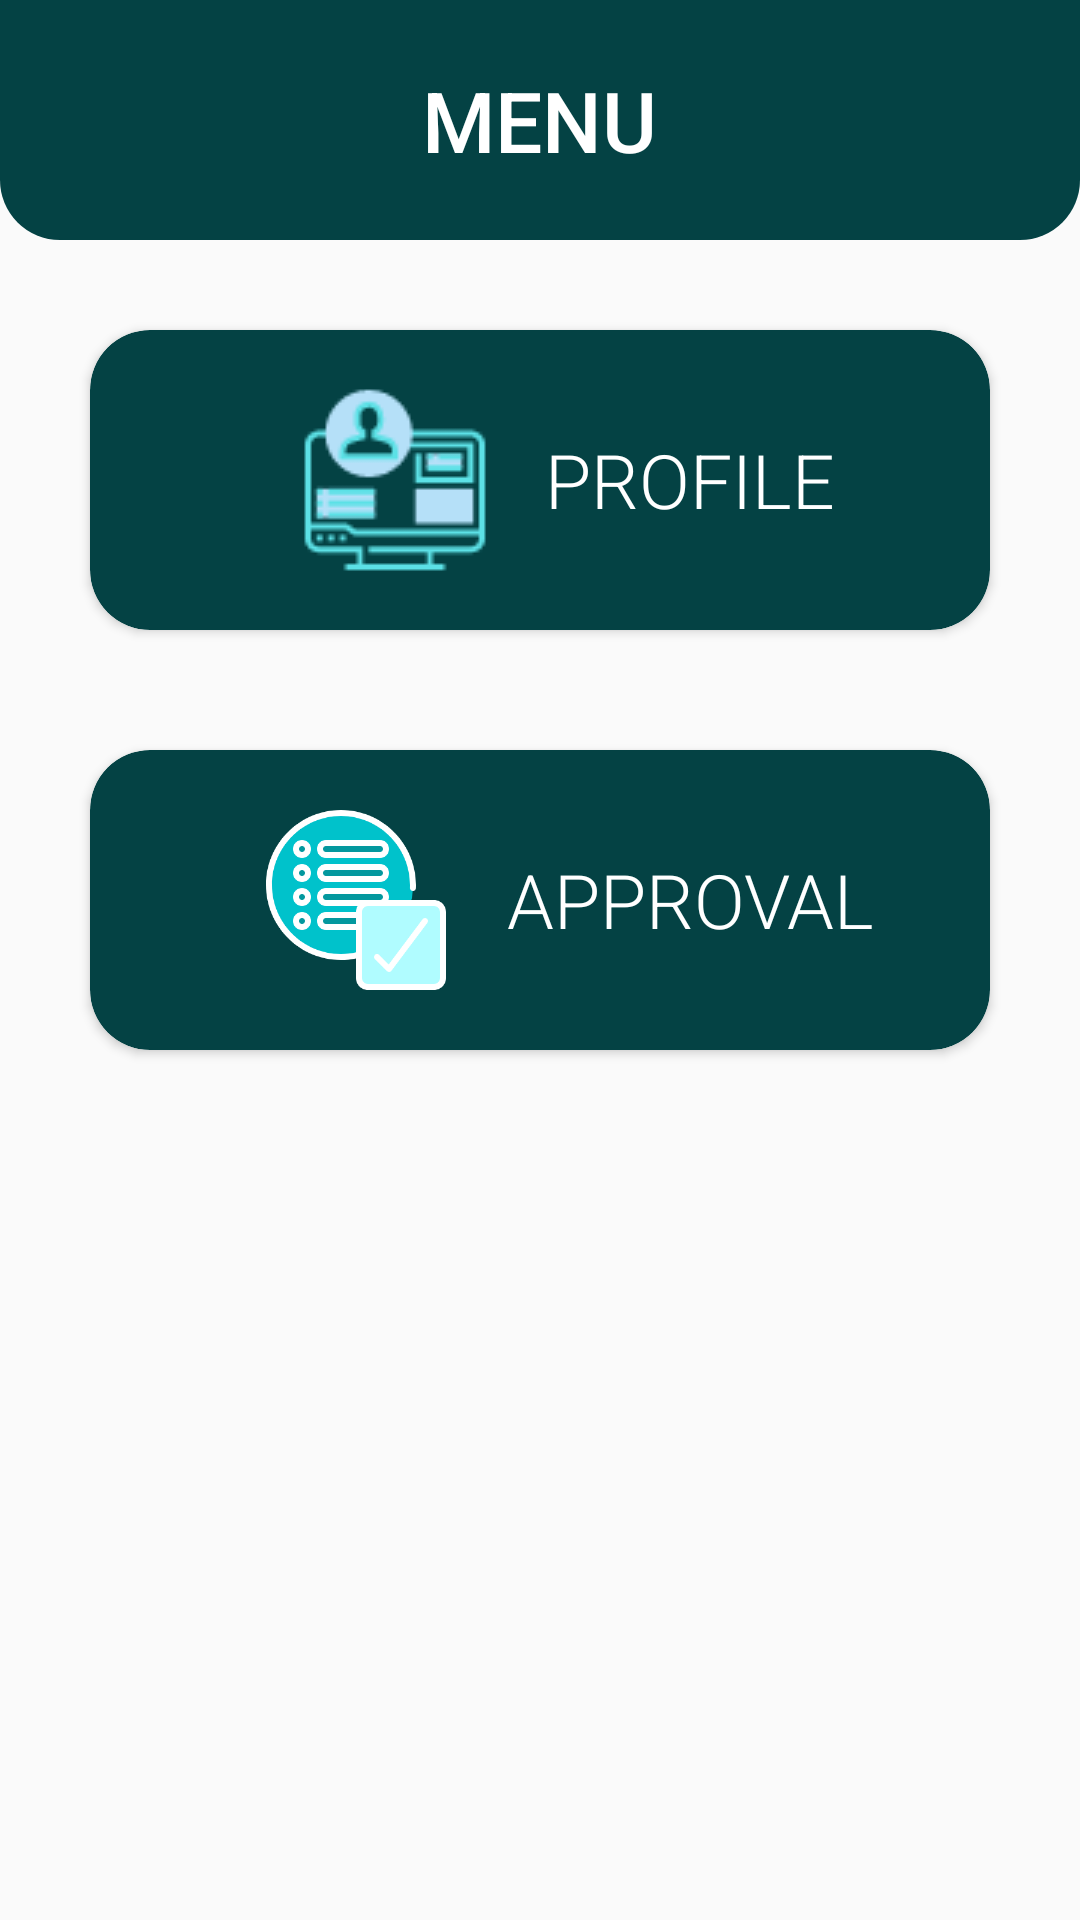

Icon bounding boxes for this 1080×1920 phone screenshot, format (x1, y1, x2, y2):
adminpro: (304, 389, 486, 571)
listof: (266, 810, 446, 990)
